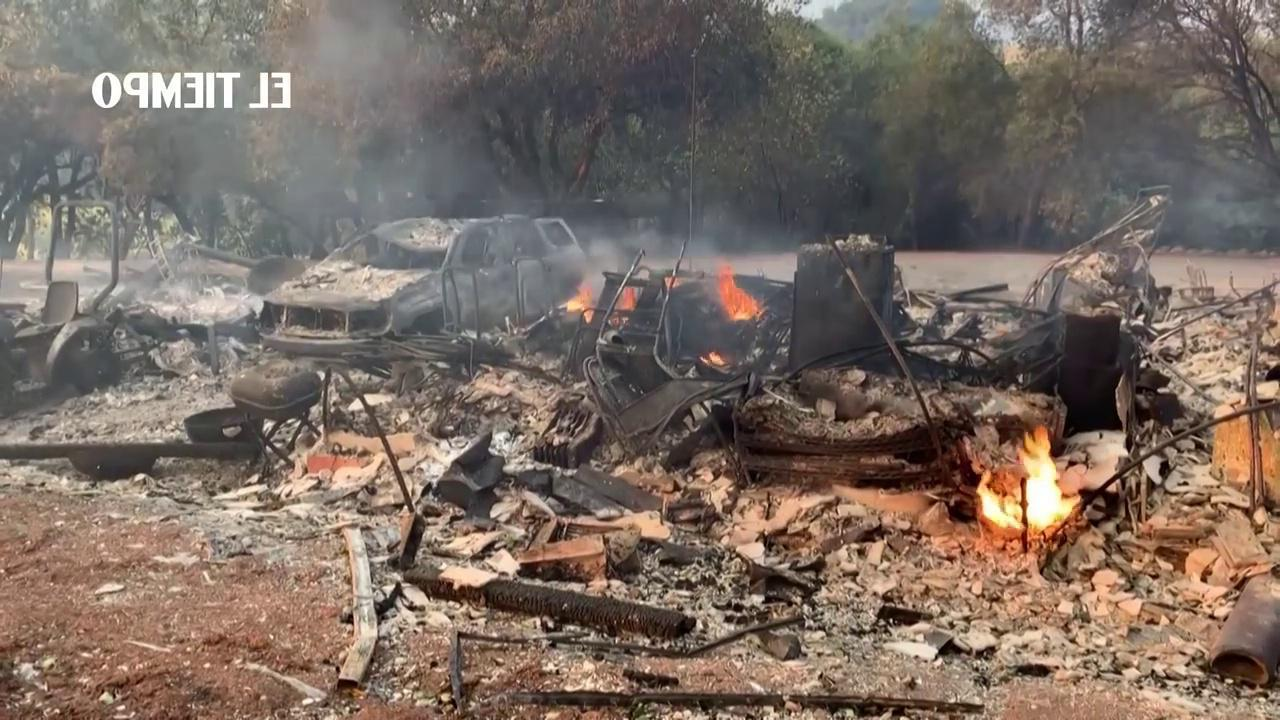Fire: (972, 429, 1072, 536), (719, 261, 770, 319), (569, 292, 594, 320), (706, 351, 729, 366)
